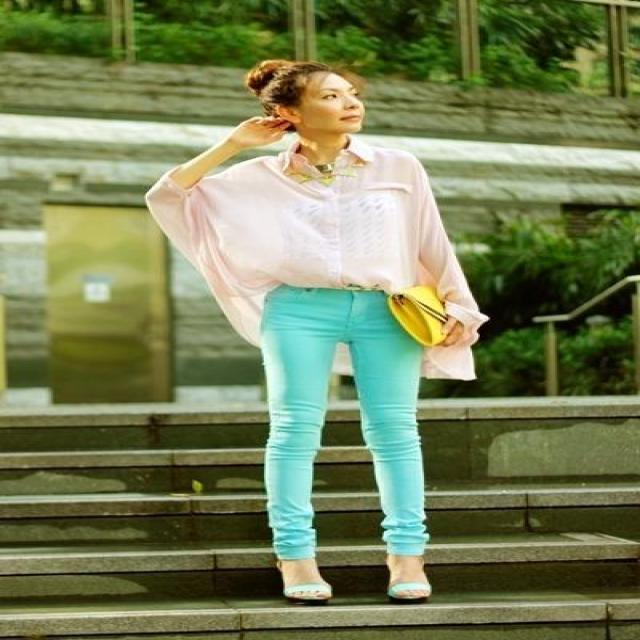bag: (387, 285, 475, 356)
pants: (250, 282, 440, 568)
shirt: (144, 132, 488, 345)
shoe: (280, 556, 430, 598)
